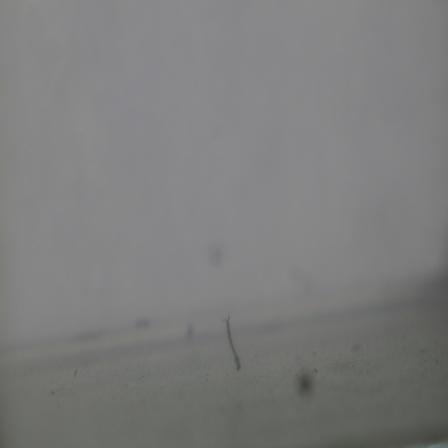Jentik-Nyamuk: (221, 311, 245, 375)
